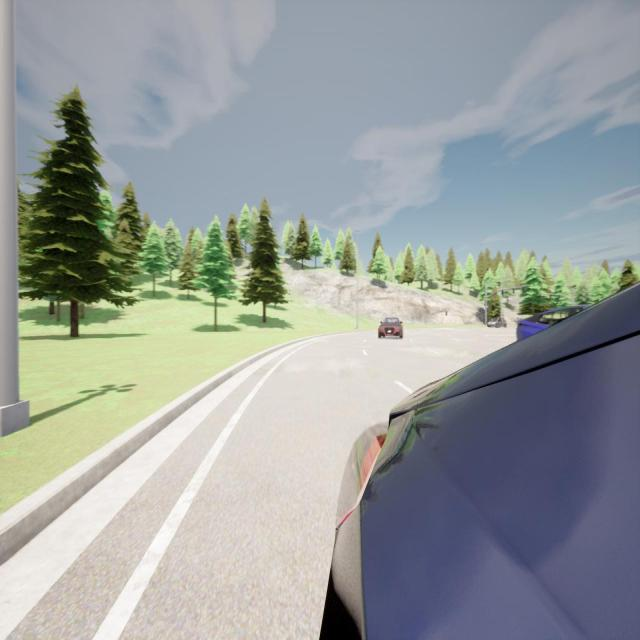Vehicle: (322, 284, 640, 638), (516, 304, 590, 342), (378, 317, 403, 338), (487, 317, 507, 328)
